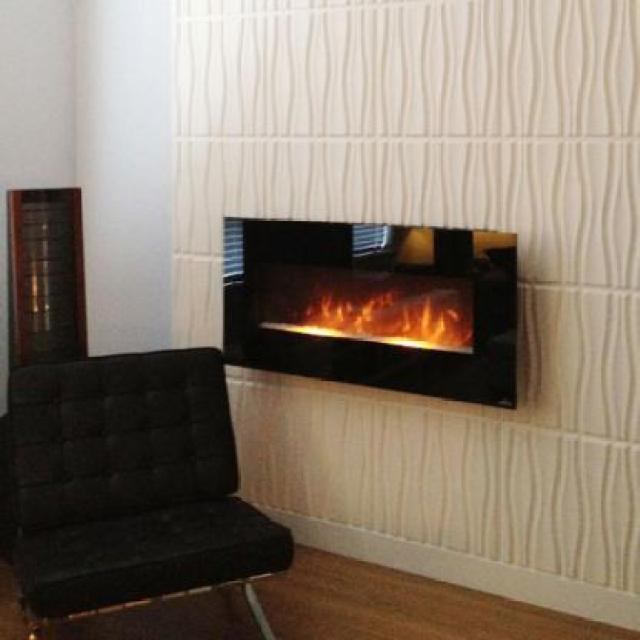Fire: (381, 288, 476, 350), (302, 290, 381, 336)
